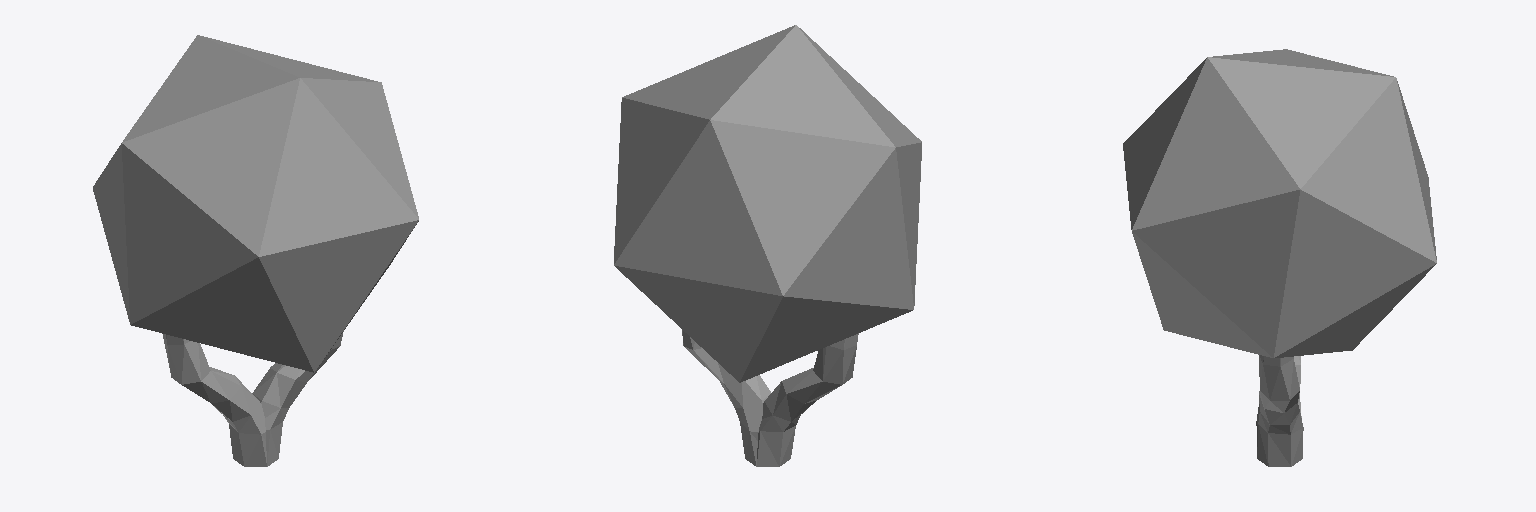
Rendered from Bush2.obj.
3 renders of one model, left to right at view 1: azimuth 30°, elevation 25°; view 2: azimuth 150°, elevation 25°; view 3: azimuth 270°, elevation 25°, orthographic.
Visible parts, largest first — view 1: Cylinder.003; view 2: Cylinder.003; view 3: Cylinder.003.
Part boxes in pixels (x1,y1,x2,y2): Cylinder.003: (93, 35, 418, 466); Cylinder.003: (614, 25, 921, 466); Cylinder.003: (1123, 49, 1436, 466).
Size of the model in its own units: 1.84 by 2.63 by 1.85.